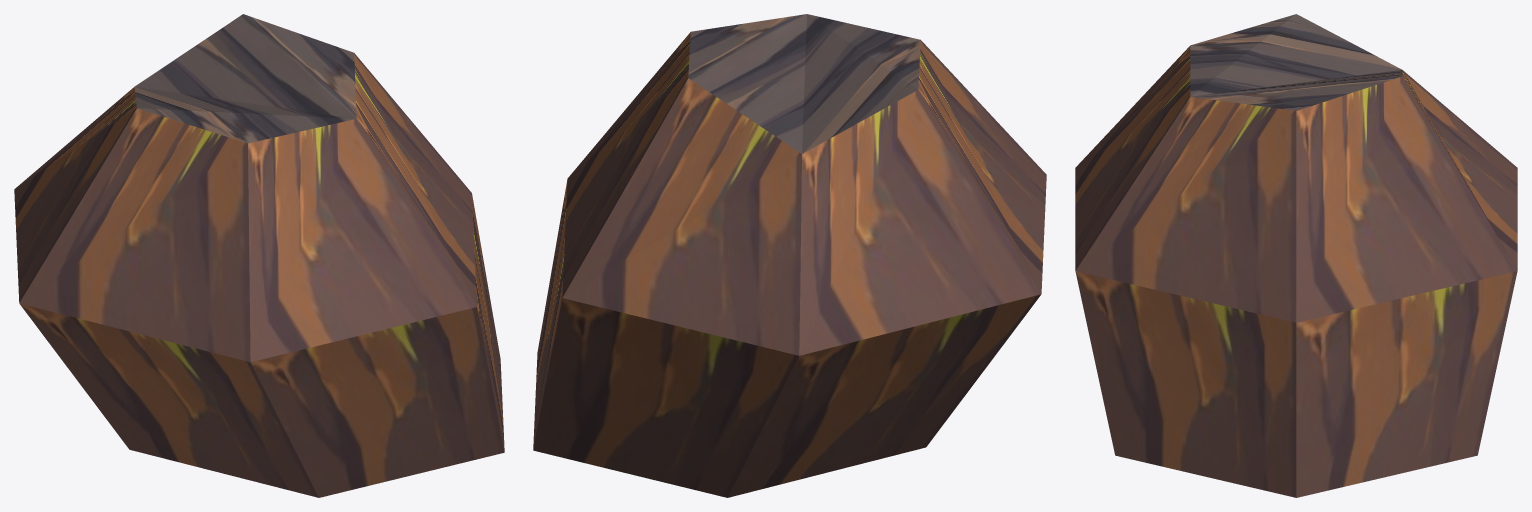
File: SM_RC_Terrain_Rock_Small_B.gltf
The picture shows the model from 3 angles, left to right: view 1: azimuth 30°, elevation 25°; view 2: azimuth 150°, elevation 25°; view 3: azimuth 270°, elevation 25°; orthographic projection. The views are drawn at different scales.
Parts seen in each view (by area): view 1: SM_RC_Terrain_Rock_Small_B; view 2: SM_RC_Terrain_Rock_Small_B; view 3: SM_RC_Terrain_Rock_Small_B.
Part boxes in pixels (x1=…): SM_RC_Terrain_Rock_Small_B: x1=14, y1=14, x2=504, y2=497; SM_RC_Terrain_Rock_Small_B: x1=533, y1=14, x2=1046, y2=497; SM_RC_Terrain_Rock_Small_B: x1=1075, y1=14, x2=1517, y2=497.
Size of the model in its own units: 2 by 1.4 by 1.7.
Materials: 1 (1 with a texture image).
